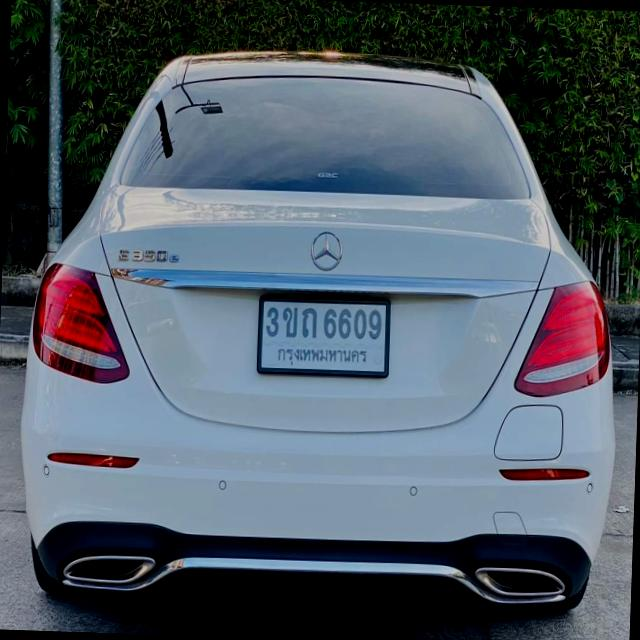license_plate: (256, 293, 389, 376)
